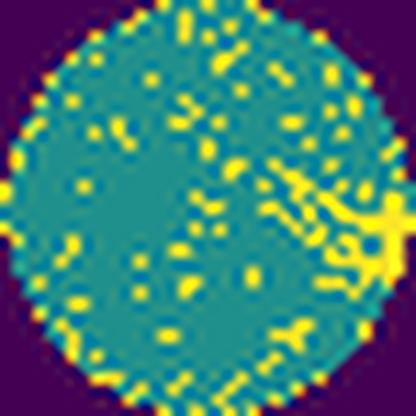Edge-Loc: (254, 157, 408, 294)
